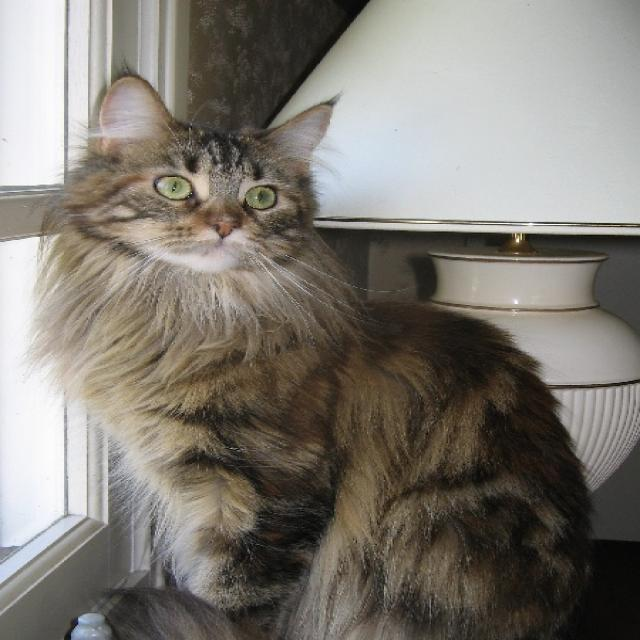Maine_Coon: (61, 63, 361, 282)
